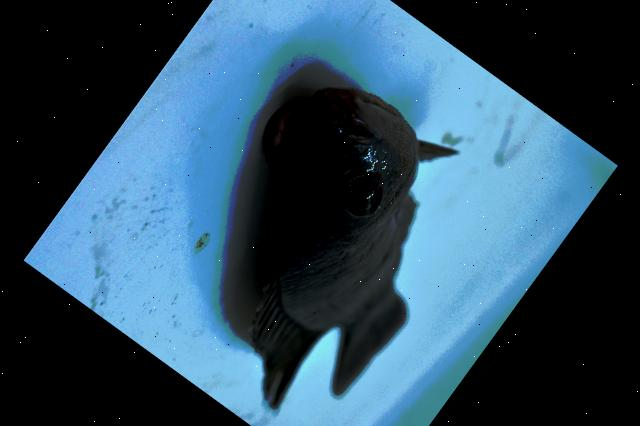Columnaris Disease: (251, 87, 454, 406)
